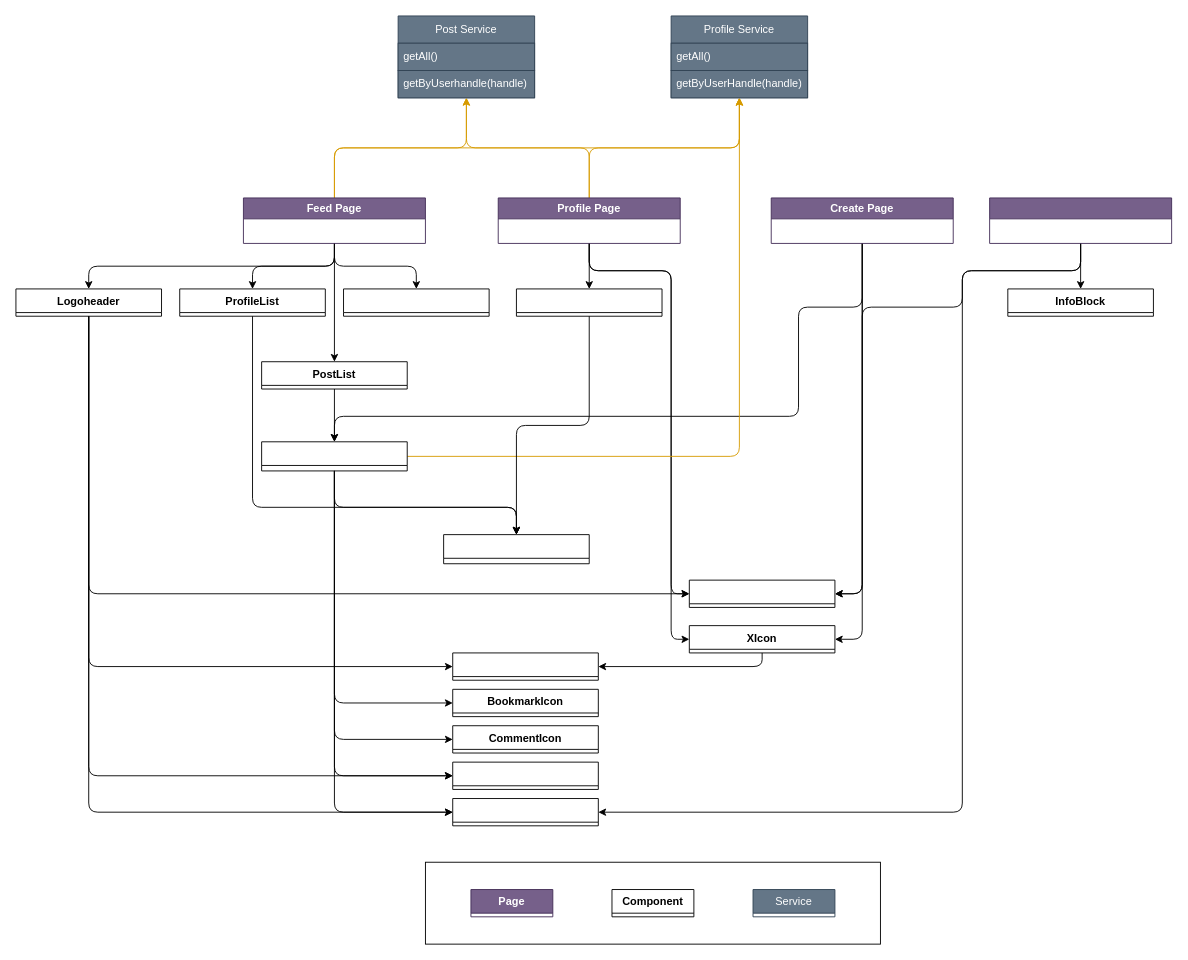
This 1188x960 diagram has some shape labels left out. Each missing label, with the centre of its shape:
About Page: the point at 1080,220
HeartIcon: the point at 525,775
InfoIcon: the point at 416,302
MediaComponent: the point at 516,549
NotInstagramLogo: the point at 761,593
PlusIcon: the point at 525,666
Post: the point at 334,456
Profile: the point at 589,302
SendIcon: the point at 525,812
